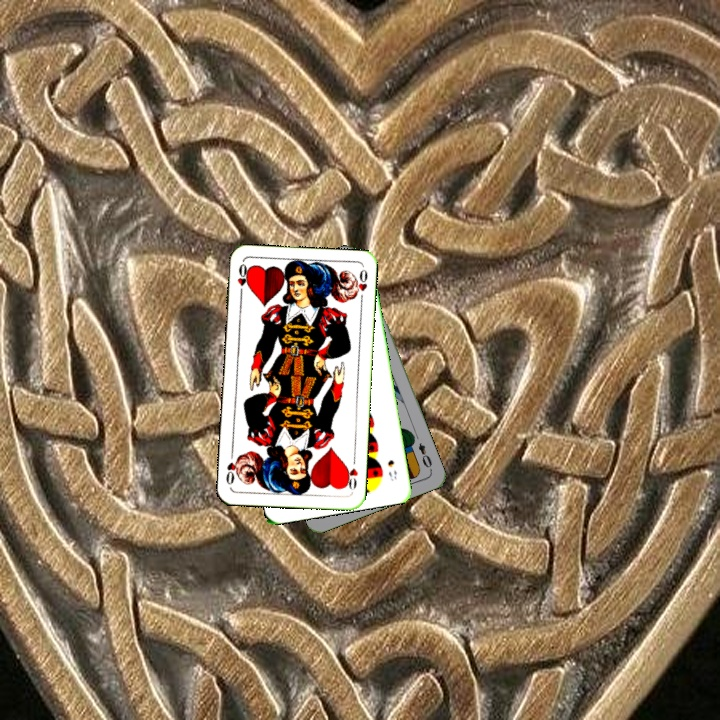EO: (414, 439, 435, 473)
HO: (341, 454, 361, 494), (233, 259, 251, 300)
S8: (384, 456, 399, 484)
